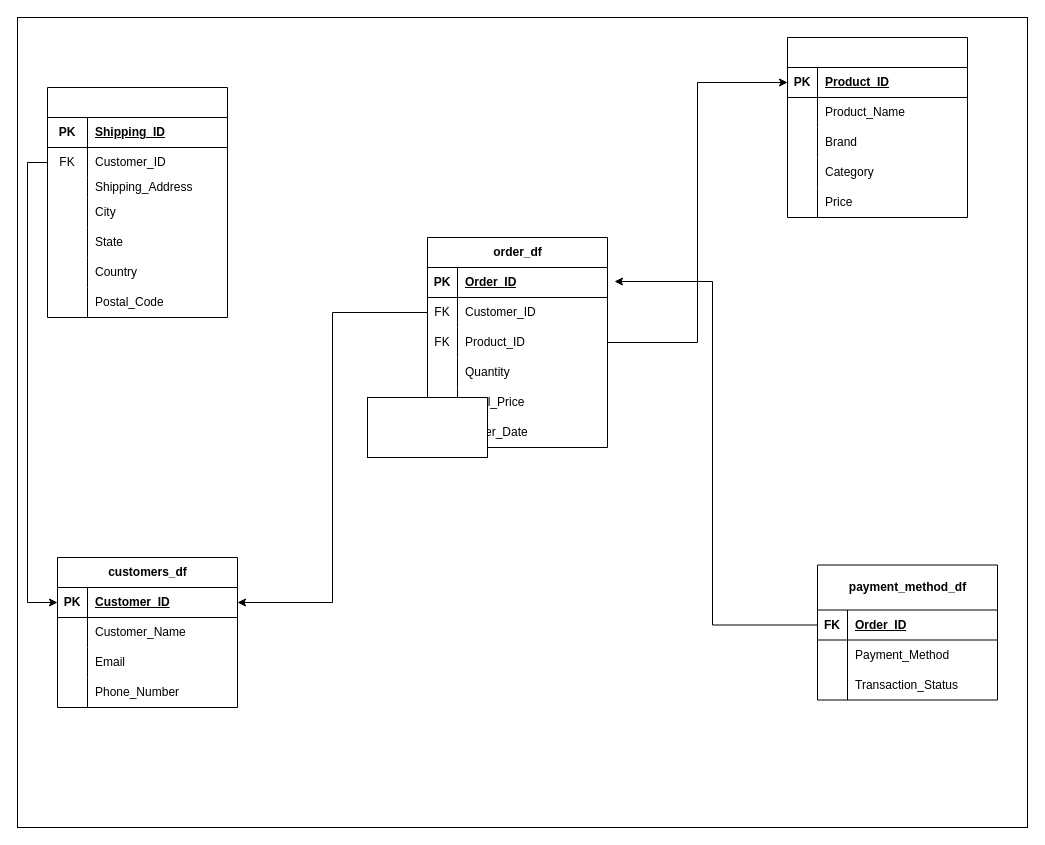
This 1045x845 diagram has some shape labels left out. The box of each missing label's shape, as (x1, y1, x2, y2) in pixels:
products_df: (786, 36, 968, 218)
Shipping_address_df: (46, 86, 228, 318)
